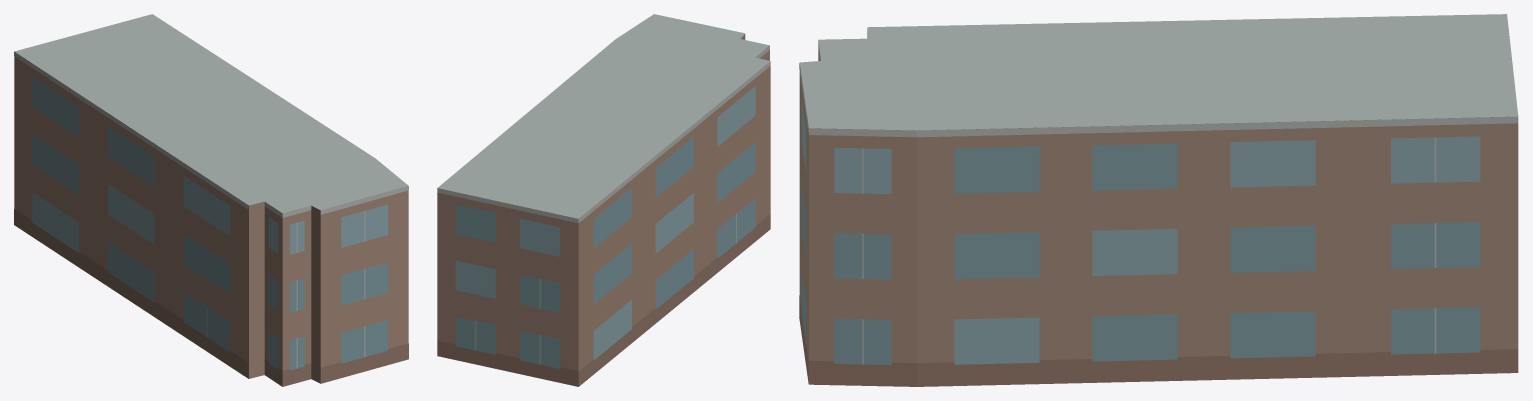
File: survey-upis-32758950.glb
3 renders of one model, left to right at view 1: azimuth 30°, elevation 25°; view 2: azimuth 150°, elevation 25°; view 3: azimuth 270°, elevation 25°, orthographic. The views are drawn at different scales.
Parts seen in each view (by area): view 1: survey-upis-32758950.tmp; view 2: survey-upis-32758950.tmp; view 3: survey-upis-32758950.tmp.
Part boxes in pixels (x1,y1,x2,y2): survey-upis-32758950.tmp: [14, 14, 408, 386]; survey-upis-32758950.tmp: [437, 14, 770, 386]; survey-upis-32758950.tmp: [799, 14, 1518, 386].
Size of the model in its own units: 8.92 by 9.15 by 23.26.
